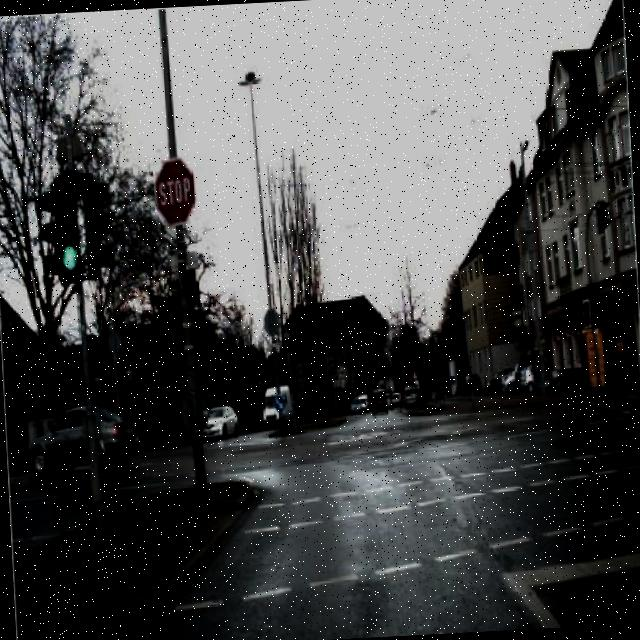Stop: (150, 157, 200, 230)
